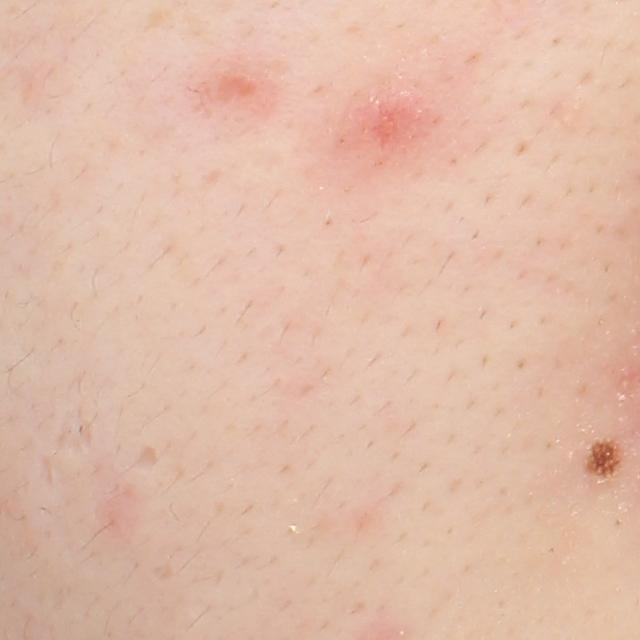atrophic_scar: (131, 442, 162, 473), (37, 452, 57, 495)
nevus: (581, 434, 627, 482)
